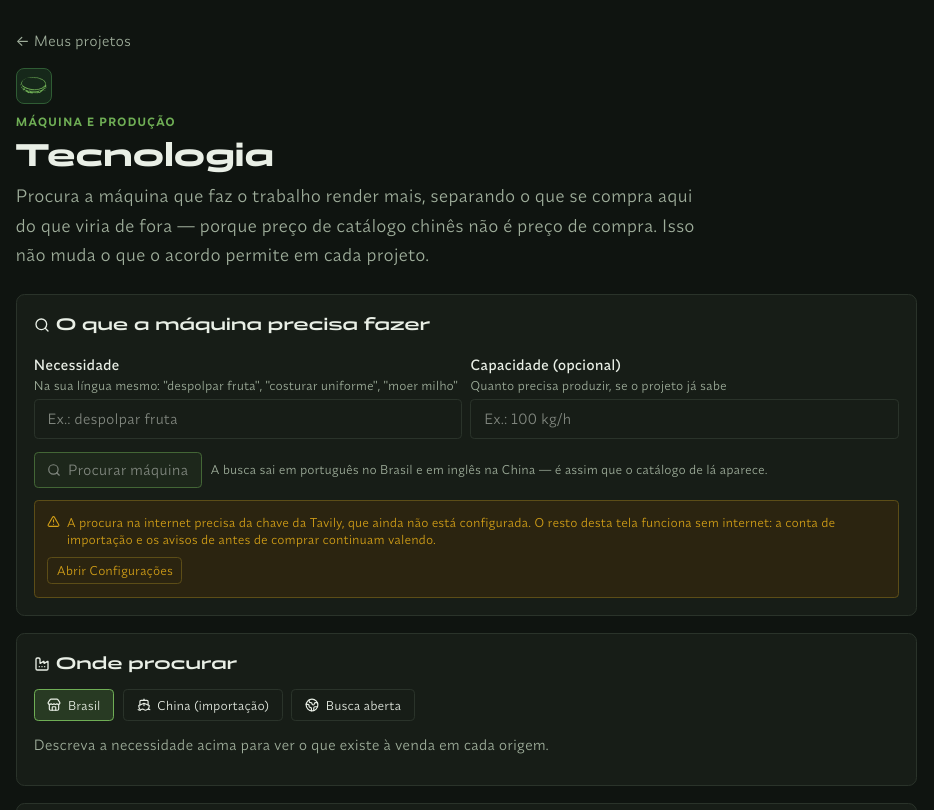
Test: Tecnologia › os alertas acompanham a origem escolhida — importar tem barreira que comprar aqui não tem
The width and height of the screenshot is (934, 810).
Check: the text "Radar/Siscomex" is not shown
Click the button "China (importação)". click: (203, 705)
box: x1=123 y1=689 x2=283 y2=721
(page scrolled)
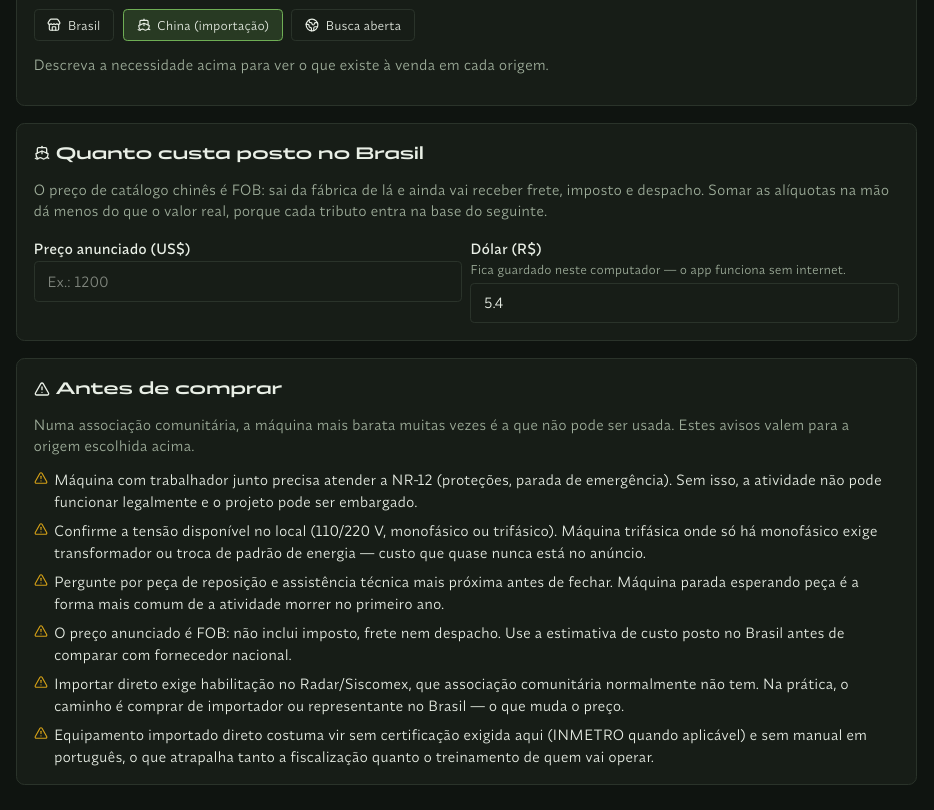
Check: the text "Radar/Siscomex" is shown, box x1=54 y1=674 x2=849 y2=715
